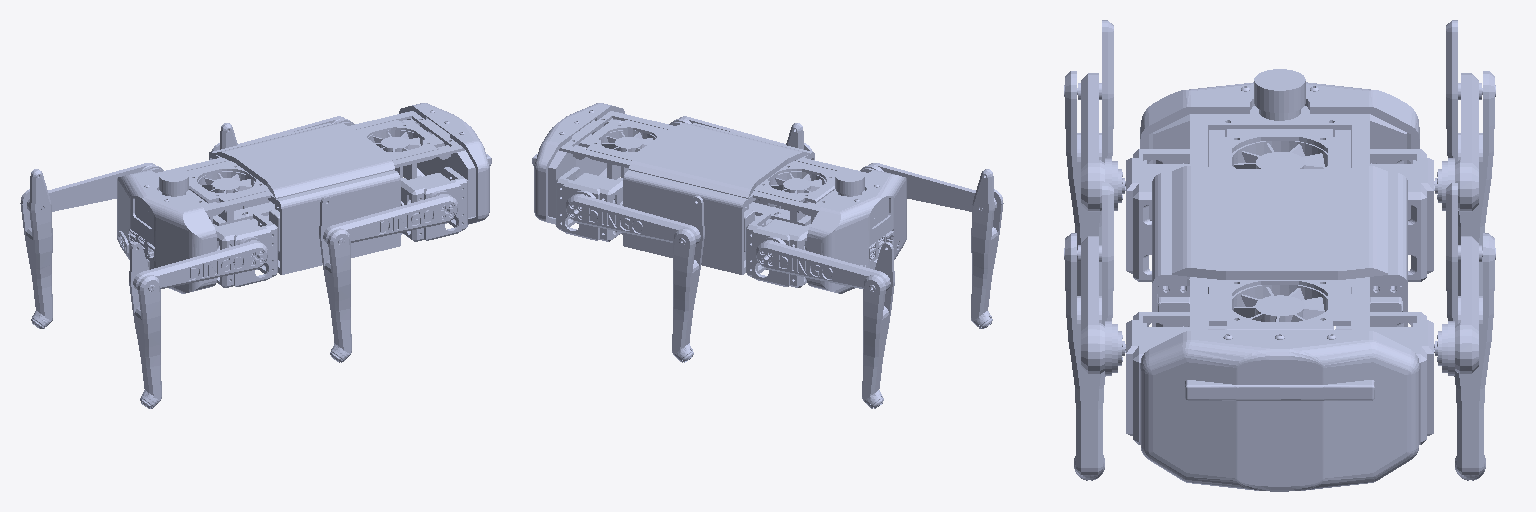
The robot description file, URDF, robot "dingo_description":
<?xml version="1.0" encoding="utf-8"?>
<!-- This URDF was automatically created by SolidWorks to URDF Exporter! Originally created by [author] ([email redacted]) 
     Commit Version: 1.6.0-4-g7f85cfe  Build Version: 1.6.7995.38578
     For more information, please see http://wiki.ros.org/sw_urdf_exporter -->
<robot
  name="dingo_description">
  <link
    name="base_link">
    <inertial>
      <origin
        xyz="0.0014631 -0.00014888 -0.00304"
        rpy="0 0 0" />
      <mass
        value="2.2" />
      <inertia
        ixx="0.0013473"
        ixy="-5.7062E-07"
        ixz="-3.8658E-06"
        iyy="0.0024951"
        iyz="4.4539E-07"
        izz="0.0032361" />
    </inertial>
    <visual>
      <origin
        xyz="0 0 0"
        rpy="0 0 0" />
      <geometry>
        <mesh
          filename="package://dingo_description/meshes/base_link.STL" />
      </geometry>
      <material
        name="">
        <color
          rgba="0.79216 0.81961 0.93333 1" />
      </material>
    </visual>
    <collision>
      <origin
        xyz="0 0 0"
        rpy="0 0 0" />
      <geometry>
        <mesh
          filename="package://dingo_description/meshes/base_link.STL" />
      </geometry>
    </collision>
  </link>
  <link
    name="FL_link1">
    <inertial>
      <origin
        xyz="0.0099246 0.0072705 0.0095717"
        rpy="0 0 0" />
      <mass
        value="0.2" />
      <inertia
        ixx="3.5552E-05"
        ixy="4.3357E-08"
        ixz="2.126E-08"
        iyy="3.3482E-05"
        iyz="-1.3221E-07"
        izz="1.9902E-05" />
    </inertial>
    <visual>
      <origin
        xyz="0 0 0"
        rpy="0 0 0" />
      <geometry>
        <mesh
          filename="package://dingo_description/meshes/FL_link1.STL" />
      </geometry>
      <material
        name="">
        <color
          rgba="0.79216 0.81961 0.93333 1" />
      </material>
    </visual>
    <collision>
      <origin
        xyz="0 0 0"
        rpy="0 0 0" />
      <geometry>
        <mesh
          filename="package://dingo_description/meshes/FL_link1.STL" />
      </geometry>
    </collision>
  </link>
  <joint
    name="FL_theta1"
    type="continuous">
    <origin
      xyz="0.11165 0.061 -0.0144"
      rpy="1.5708 0 1.5708" />
    <parent
      link="base_link" />
    <child
      link="FL_link1" />
    <axis
      xyz="0 0 -1" />
  </joint>
  <link
    name="FL_link2">
    <inertial>
      <origin
        xyz="0.04716 -9.1E-06 0.0027797"
        rpy="0 0 0" />
      <mass
        value="0.05" />
      <inertia
        ixx="2.7283E-06"
        ixy="-6.5997E-10"
        ixz="1.8046E-06"
        iyy="7.2343E-05"
        iyz="-2.0176E-09"
        izz="7.3964E-05" />
    </inertial>
    <visual>
      <origin
        xyz="0 0 0"
        rpy="0 0 0" />
      <geometry>
        <mesh
          filename="package://dingo_description/meshes/FL_link2.STL" />
      </geometry>
      <material
        name="">
        <color
          rgba="0.79216 0.81961 0.93333 1" />
      </material>
    </visual>
    <collision>
      <origin
        xyz="0 0 0"
        rpy="0 0 0" />
      <geometry>
        <mesh
          filename="package://dingo_description/meshes/FL_link2.STL" />
      </geometry>
    </collision>
  </link>
  <joint
    name="FL_theta2"
    type="continuous">
    <origin
      xyz="0.0496 0.0144 0"
      rpy="1.5708 1.5708 -1.5708" />
    <parent
      link="FL_link1" />
    <child
      link="FL_link2" />
    <axis
      xyz="0 0 1" />
  </joint>
  <link
    name="FL_link3">
    <inertial>
      <origin
        xyz="0.050883 0.0040212 0.00066702"
        rpy="0 0 0" />
      <mass
        value="0.05" />
      <inertia
        ixx="4.9316E-06"
        ixy="-7.1103E-06"
        ixz="2.5244E-06"
        iyy="8.9179E-05"
        iyz="2.3247E-07"
        izz="8.8368E-05" />
    </inertial>
    <visual>
      <origin
        xyz="0 0 0"
        rpy="0 0 0" />
      <geometry>
        <mesh
          filename="package://dingo_description/meshes/FL_link3.STL" />
      </geometry>
      <material
        name="">
        <color
          rgba="0.79216 0.81961 0.93333 1" />
      </material>
    </visual>
    <collision>
      <origin
        xyz="0 0 0"
        rpy="0 0 0" />
      <geometry>
        <mesh
          filename="package://dingo_description/meshes/FL_link3.STL" />
      </geometry>
    </collision>
  </link>
  <joint
    name="FL_theta3"
    type="continuous">
    <origin
      xyz="0.13 0 0"
      rpy="0 0 1.5708" />
    <parent
      link="FL_link2" />
    <child
      link="FL_link3" />
    <axis
      xyz="0 0 1" />
  </joint>
  <link
    name="FL_link4">
    <inertial>
      <origin
        xyz="-0.0035222 0.0032708 7.8203E-12"
        rpy="0 0 0" />
      <mass
        value="0.01" />
      <inertia
        ixx="4.34E-08"
        ixy="-1.0272E-08"
        ixz="-3.4038E-16"
        iyy="4.1878E-08"
        iyz="3.1906E-16"
        izz="3.2338E-08" />
    </inertial>
    <visual>
      <origin
        xyz="0 0 0"
        rpy="0 0 0" />
      <geometry>
        <mesh
          filename="package://dingo_description/meshes/FL_link4.STL" />
      </geometry>
      <material
        name="">
        <color
          rgba="0.79216 0.81961 0.93333 1" />
      </material>
    </visual>
    <collision>
      <origin
        xyz="0 0 0"
        rpy="0 0 0" />
      <geometry>
        <mesh
          filename="package://dingo_description/meshes/FL_link4.STL" />
      </geometry>
    </collision>
  </link>
  <joint
    name="FL_foot"
    type="fixed">
    <origin
      xyz="0.13814 0 0"
      rpy="0 0 0" />
    <parent
      link="FL_link3" />
    <child
      link="FL_link4" />
    <axis
      xyz="0 0 0" />
  </joint>
  <link
    name="FR_link1">
    <inertial>
      <origin
        xyz="-0.0099246 0.0072016 0.009573"
        rpy="0 0 0" />
      <mass
        value="0.2" />
      <inertia
        ixx="3.5552E-05"
        ixy="4.3356E-08"
        ixz="-2.0644E-08"
        iyy="3.3482E-05"
        iyz="-1.3216E-07"
        izz="1.9902E-05" />
    </inertial>
    <visual>
      <origin
        xyz="0 0 0"
        rpy="0 0 0" />
      <geometry>
        <mesh
          filename="package://dingo_description/meshes/FR_link1.STL" />
      </geometry>
      <material
        name="">
        <color
          rgba="0.79216 0.81961 0.93333 1" />
      </material>
    </visual>
    <collision>
      <origin
        xyz="0 0 0"
        rpy="0 0 0" />
      <geometry>
        <mesh
          filename="package://dingo_description/meshes/FR_link1.STL" />
      </geometry>
    </collision>
  </link>
  <joint
    name="FR_theta1"
    type="continuous">
    <origin
      xyz="0.11165 -0.061 -0.0144"
      rpy="1.5708 0 1.5708" />
    <parent
      link="base_link" />
    <child
      link="FR_link1" />
    <axis
      xyz="0 0 -1" />
  </joint>
  <link
    name="FR_link2">
    <inertial>
      <origin
        xyz="0.047105 -3.823E-07 -0.0027801"
        rpy="0 0 0" />
      <mass
        value="0.05" />
      <inertia
        ixx="2.7284E-06"
        ixy="-2.0045E-09"
        ixz="-1.7926E-06"
        iyy="7.2365E-05"
        iyz="8.4078E-11"
        izz="7.3986E-05" />
    </inertial>
    <visual>
      <origin
        xyz="0 0 0"
        rpy="0 0 0" />
      <geometry>
        <mesh
          filename="package://dingo_description/meshes/FR_link2.STL" />
      </geometry>
      <material
        name="">
        <color
          rgba="0.79216 0.81961 0.93333 1" />
      </material>
    </visual>
    <collision>
      <origin
        xyz="0 0 0"
        rpy="0 0 0" />
      <geometry>
        <mesh
          filename="package://dingo_description/meshes/FR_link2.STL" />
      </geometry>
    </collision>
  </link>
  <joint
    name="FR_theta2"
    type="continuous">
    <origin
      xyz="-0.0496 0.0144 0"
      rpy="1.5708 1.5708 -1.5708" />
    <parent
      link="FR_link1" />
    <child
      link="FR_link2" />
    <axis
      xyz="0 0 1" />
  </joint>
  <link
    name="FR_link3">
    <inertial>
      <origin
        xyz="0.050883 0.0040212 -0.00066701"
        rpy="0 0 0" />
      <mass
        value="0.05" />
      <inertia
        ixx="4.9316E-06"
        ixy="-7.1103E-06"
        ixz="-2.5245E-06"
        iyy="8.9179E-05"
        iyz="-2.3248E-07"
        izz="8.8368E-05" />
    </inertial>
    <visual>
      <origin
        xyz="0 0 0"
        rpy="0 0 0" />
      <geometry>
        <mesh
          filename="package://dingo_description/meshes/FR_link3.STL" />
      </geometry>
      <material
        name="">
        <color
          rgba="0.79216 0.81961 0.93333 1" />
      </material>
    </visual>
    <collision>
      <origin
        xyz="0 0 0"
        rpy="0 0 0" />
      <geometry>
        <mesh
          filename="package://dingo_description/meshes/FR_link3.STL" />
      </geometry>
    </collision>
  </link>
  <joint
    name="FR_theta3"
    type="continuous">
    <origin
      xyz="0.13 0 0"
      rpy="0 0 1.5708" />
    <parent
      link="FR_link2" />
    <child
      link="FR_link3" />
    <axis
      xyz="0 0 1" />
  </joint>
  <link
    name="FR_link4">
    <inertial>
      <origin
        xyz="-0.0035222 0.0032708 6.3288E-11"
        rpy="0 0 0" />
      <mass
        value="0.01" />
      <inertia
        ixx="4.34E-08"
        ixy="-1.0272E-08"
        ixz="-5.1458E-16"
        iyy="4.1878E-08"
        iyz="4.8083E-16"
        izz="3.2338E-08" />
    </inertial>
    <visual>
      <origin
        xyz="0 0 0"
        rpy="0 0 0" />
      <geometry>
        <mesh
          filename="package://dingo_description/meshes/FR_link4.STL" />
      </geometry>
      <material
        name="">
        <color
          rgba="0.79216 0.81961 0.93333 1" />
      </material>
    </visual>
    <collision>
      <origin
        xyz="0 0 0"
        rpy="0 0 0" />
      <geometry>
        <mesh
          filename="package://dingo_description/meshes/FR_link4.STL" />
      </geometry>
    </collision>
  </link>
  <joint
    name="FR_foot"
    type="fixed">
    <origin
      xyz="0.13814 0 0"
      rpy="0 0 0" />
    <parent
      link="FR_link3" />
    <child
      link="FR_link4" />
    <axis
      xyz="0 0 0" />
  </joint>
  <link
    name="RL_link1">
    <inertial>
      <origin
        xyz="0.0099246 0.0072017 0.010375"
        rpy="0 0 0" />
      <mass
        value="0.2" />
      <inertia
        ixx="3.5552E-05"
        ixy="-4.3357E-08"
        ixz="2.0644E-08"
        iyy="3.3482E-05"
        iyz="-1.3221E-07"
        izz="1.9902E-05" />
    </inertial>
    <visual>
      <origin
        xyz="0 0 0"
        rpy="0 0 0" />
      <geometry>
        <mesh
          filename="package://dingo_description/meshes/RL_link1.STL" />
      </geometry>
      <material
        name="">
        <color
          rgba="0.79216 0.81961 0.93333 1" />
      </material>
    </visual>
    <collision>
      <origin
        xyz="0 0 0"
        rpy="0 0 0" />
      <geometry>
        <mesh
          filename="package://dingo_description/meshes/RL_link1.STL" />
      </geometry>
    </collision>
  </link>
  <joint
    name="RL_theta1"
    type="continuous">
    <origin
      xyz="-0.11165 0.061 -0.0144"
      rpy="1.5708 0 1.5708" />
    <parent
      link="base_link" />
    <child
      link="RL_link1" />
    <axis
      xyz="0 0 -1" />
  </joint>
  <link
    name="RL_link2">
    <inertial>
      <origin
        xyz="0.04716 -9.1001E-06 0.0027797"
        rpy="0 0 0" />
      <mass
        value="0.05" />
      <inertia
        ixx="2.7283E-06"
        ixy="-6.5997E-10"
        ixz="1.8046E-06"
        iyy="7.2343E-05"
        iyz="-2.0176E-09"
        izz="7.3964E-05" />
    </inertial>
    <visual>
      <origin
        xyz="0 0 0"
        rpy="0 0 0" />
      <geometry>
        <mesh
          filename="package://dingo_description/meshes/RL_link2.STL" />
      </geometry>
      <material
        name="">
        <color
          rgba="0.79216 0.81961 0.93333 1" />
      </material>
    </visual>
    <collision>
      <origin
        xyz="0 0 0"
        rpy="0 0 0" />
      <geometry>
        <mesh
          filename="package://dingo_description/meshes/RL_link2.STL" />
      </geometry>
    </collision>
  </link>
  <joint
    name="RL_theta2"
    type="continuous">
    <origin
      xyz="0.0496 0.0144 0"
      rpy="1.5708 1.5708 -1.5708" />
    <parent
      link="RL_link1" />
    <child
      link="RL_link2" />
    <axis
      xyz="0 0 1" />
  </joint>
  <link
    name="RL_link3">
    <inertial>
      <origin
        xyz="0.050883 0.0040212 0.00066703"
        rpy="0 0 0" />
      <mass
        value="0.05" />
      <inertia
        ixx="4.9316E-06"
        ixy="-7.1103E-06"
        ixz="2.5244E-06"
        iyy="8.9179E-05"
        iyz="2.3247E-07"
        izz="8.8368E-05" />
    </inertial>
    <visual>
      <origin
        xyz="0 0 0"
        rpy="0 0 0" />
      <geometry>
        <mesh
          filename="package://dingo_description/meshes/RL_link3.STL" />
      </geometry>
      <material
        name="">
        <color
          rgba="0.79216 0.81961 0.93333 1" />
      </material>
    </visual>
    <collision>
      <origin
        xyz="0 0 0"
        rpy="0 0 0" />
      <geometry>
        <mesh
          filename="package://dingo_description/meshes/RL_link3.STL" />
      </geometry>
    </collision>
  </link>
  <joint
    name="RL_theta3"
    type="continuous">
    <origin
      xyz="0.13 0 0"
      rpy="0 0 1.5708" />
    <parent
      link="RL_link2" />
    <child
      link="RL_link3" />
    <axis
      xyz="0 0 1" />
  </joint>
  <link
    name="RL_link4">
    <inertial>
      <origin
        xyz="-0.0035222 0.0032708 6.3535E-10"
        rpy="0 0 0" />
      <mass
        value="0.01" />
      <inertia
        ixx="4.34E-08"
        ixy="-1.0272E-08"
        ixz="-2.3143E-15"
        iyy="4.1878E-08"
        iyz="2.1487E-15"
        izz="3.2338E-08" />
    </inertial>
    <visual>
      <origin
        xyz="0 0 0"
        rpy="0 0 0" />
      <geometry>
        <mesh
          filename="package://dingo_description/meshes/RL_link4.STL" />
      </geometry>
      <material
        name="">
        <color
          rgba="0.79216 0.81961 0.93333 1" />
      </material>
    </visual>
    <collision>
      <origin
        xyz="0 0 0"
        rpy="0 0 0" />
      <geometry>
        <mesh
          filename="package://dingo_description/meshes/RL_link4.STL" />
      </geometry>
    </collision>
  </link>
  <joint
    name="RL_foot"
    type="fixed">
    <origin
      xyz="0.13814 0 0"
      rpy="0 0 0" />
    <parent
      link="RL_link3" />
    <child
      link="RL_link4" />
    <axis
      xyz="0 0 0" />
  </joint>
  <link
    name="RR_link1">
    <inertial>
      <origin
        xyz="-0.0099246 0.0072016 0.010375"
        rpy="0 0 0" />
      <mass
        value="0.2" />
      <inertia
        ixx="3.5552E-05"
        ixy="4.3356E-08"
        ixz="-2.0644E-08"
        iyy="3.3482E-05"
        iyz="-1.3216E-07"
        izz="1.9902E-05" />
    </inertial>
    <visual>
      <origin
        xyz="0 0 0"
        rpy="0 0 0" />
      <geometry>
        <mesh
          filename="package://dingo_description/meshes/RR_link1.STL" />
      </geometry>
      <material
        name="">
        <color
          rgba="0.79216 0.81961 0.93333 1" />
      </material>
    </visual>
    <collision>
      <origin
        xyz="0 0 0"
        rpy="0 0 0" />
      <geometry>
        <mesh
          filename="package://dingo_description/meshes/RR_link1.STL" />
      </geometry>
    </collision>
  </link>
  <joint
    name="RR_theta1"
    type="continuous">
    <origin
      xyz="-0.11165 -0.061 -0.0144"
      rpy="1.5708 0 1.5708" />
    <parent
      link="base_link" />
    <child
      link="RR_link1" />
    <axis
      xyz="0 0 -1" />
  </joint>
  <link
    name="RR_link2">
    <inertial>
      <origin
        xyz="0.047105 -3.823E-07 -0.0027801"
        rpy="0 0 0" />
      <mass
        value="0.05" />
      <inertia
        ixx="2.7284E-06"
        ixy="-2.0045E-09"
        ixz="-1.7926E-06"
        iyy="7.2365E-05"
        iyz="8.4078E-11"
        izz="7.3986E-05" />
    </inertial>
    <visual>
      <origin
        xyz="0 0 0"
        rpy="0 0 0" />
      <geometry>
        <mesh
          filename="package://dingo_description/meshes/RR_link2.STL" />
      </geometry>
      <material
        name="">
        <color
          rgba="0.79216 0.81961 0.93333 1" />
      </material>
    </visual>
    <collision>
      <origin
        xyz="0 0 0"
        rpy="0 0 0" />
      <geometry>
        <mesh
          filename="package://dingo_description/meshes/RR_link2.STL" />
      </geometry>
    </collision>
  </link>
  <joint
    name="RR_theta2"
    type="continuous">
    <origin
      xyz="-0.0496 0.0144 0"
      rpy="1.5708 1.5708 -1.5708" />
    <parent
      link="RR_link1" />
    <child
      link="RR_link2" />
    <axis
      xyz="0 0 1" />
  </joint>
  <link
    name="RR_link3">
    <inertial>
      <origin
        xyz="0.050883 0.0040212 -0.00066701"
        rpy="0 0 0" />
      <mass
        value="0.05" />
      <inertia
        ixx="4.9316E-06"
        ixy="-7.1103E-06"
        ixz="-2.5245E-06"
        iyy="8.9179E-05"
        iyz="-2.3248E-07"
        izz="8.8368E-05" />
    </inertial>
    <visual>
      <origin
        xyz="0 0 0"
        rpy="0 0 0" />
      <geometry>
        <mesh
          filename="package://dingo_description/meshes/RR_link3.STL" />
      </geometry>
      <material
        name="">
        <color
          rgba="0.79216 0.81961 0.93333 1" />
      </material>
    </visual>
    <collision>
      <origin
        xyz="0 0 0"
        rpy="0 0 0" />
      <geometry>
        <mesh
          filename="package://dingo_description/meshes/RR_link3.STL" />
      </geometry>
    </collision>
  </link>
  <joint
    name="RR_theta3"
    type="continuous">
    <origin
      xyz="0.13 0 0"
      rpy="0 0 1.5708" />
    <parent
      link="RR_link2" />
    <child
      link="RR_link3" />
    <axis
      xyz="0 0 1" />
  </joint>
  <link
    name="RR_link4">
    <inertial>
      <origin
        xyz="-0.0035222 0.0032708 7.8203E-12"
        rpy="0 0 0" />
      <mass
        value="0.01" />
      <inertia
        ixx="4.34E-08"
        ixy="-1.0272E-08"
        ixz="-3.4038E-16"
        iyy="4.1878E-08"
        iyz="3.1906E-16"
        izz="3.2338E-08" />
    </inertial>
    <visual>
      <origin
        xyz="0 0 0"
        rpy="0 0 0" />
      <geometry>
        <mesh
          filename="package://dingo_description/meshes/RR_link4.STL" />
      </geometry>
      <material
        name="">
        <color
          rgba="0.79216 0.81961 0.93333 1" />
      </material>
    </visual>
    <collision>
      <origin
        xyz="0 0 0"
        rpy="0 0 0" />
      <geometry>
        <mesh
          filename="package://dingo_description/meshes/RR_link4.STL" />
      </geometry>
    </collision>
  </link>
  <joint
    name="RR_foot"
    type="fixed">
    <origin
      xyz="0.13814 0 0"
      rpy="0 0 0" />
    <parent
      link="RR_link3" />
    <child
      link="RR_link4" />
    <axis
      xyz="0 0 0" />
  </joint>
</robot>

--- What the picture shows (computed from the rendered views, not written in the file) ---
The picture shows the robot from 3 angles, left to right: view 1: azimuth 30°, elevation 25°; view 2: azimuth 150°, elevation 25°; view 3: azimuth 270°, elevation 25°; orthographic projection.
Robot: dingo_description — 17 links, 16 joints (12 continuous, 4 fixed); root link base_link; default pose: all joints at 0.
Links seen in each view (by area): view 1: base_link, RL_link3, RR_link3, FR_link3, FR_link2, RR_link2, FR_link1, RR_link1, RL_link2; view 2: base_link, RR_link3, RL_link3, FL_link3, FL_link2, RL_link2, FL_link1, RL_link1, RR_link2; view 3: base_link, FR_link3, FL_link3, RL_link3, RR_link3, RL_link1, RR_link1, FL_link2, FR_link2, RL_link2, RR_link2, FL_link1 (+1 smaller).
Link boxes in pixels (bbox=[...]): base_link: bbox=[117, 103, 491, 293]; RL_link3: bbox=[20, 169, 52, 324]; RR_link3: bbox=[129, 242, 161, 404]; FR_link3: bbox=[319, 196, 351, 358]; FR_link2: bbox=[323, 190, 457, 243]; RR_link2: bbox=[133, 237, 267, 290]; FR_link1: bbox=[401, 167, 467, 241]; RR_link1: bbox=[213, 213, 277, 287]; RL_link2: bbox=[27, 163, 163, 211]; base_link: bbox=[532, 103, 906, 293]; RR_link3: bbox=[971, 169, 1003, 324]; RL_link3: bbox=[862, 242, 894, 404]; FL_link3: bbox=[672, 196, 704, 358]; FL_link2: bbox=[566, 190, 700, 243]; RL_link2: bbox=[756, 237, 890, 290]; FL_link1: bbox=[556, 167, 622, 241]; RL_link1: bbox=[746, 213, 810, 287]; RR_link2: bbox=[860, 163, 996, 211]; base_link: bbox=[1140, 69, 1419, 491]; FR_link3: bbox=[1064, 183, 1113, 478]; FL_link3: bbox=[1446, 183, 1495, 478]; RL_link3: bbox=[1446, 20, 1495, 295]; RR_link3: bbox=[1064, 20, 1113, 295]; RL_link1: bbox=[1370, 149, 1434, 281]; RR_link1: bbox=[1125, 149, 1189, 281]; FL_link2: bbox=[1435, 236, 1478, 375]; FR_link2: bbox=[1081, 236, 1124, 375]; RL_link2: bbox=[1435, 73, 1478, 211]; RR_link2: bbox=[1081, 73, 1124, 211]; FL_link1: bbox=[1370, 312, 1434, 444].
Size in the robot's own frame: 0.4522 by 0.2508 by 0.195 metres.
Meshes: 17 distinct files referenced, 17 mesh visuals loaded (17 binary STL).